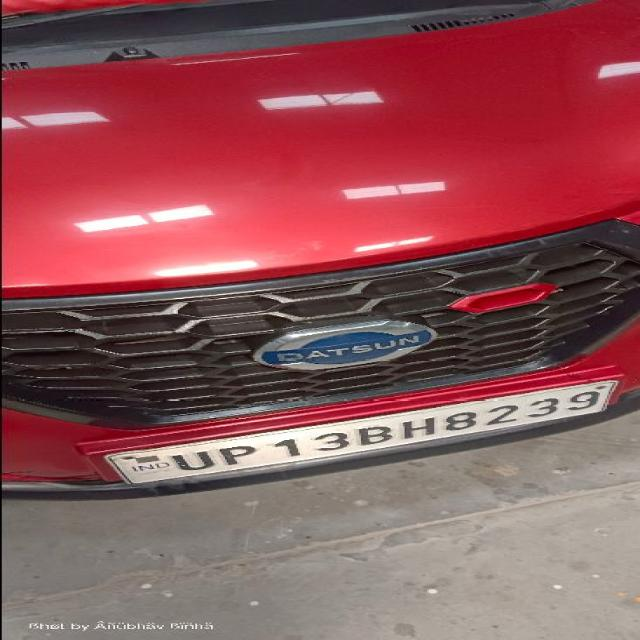license_plate: (96, 379, 619, 485)
